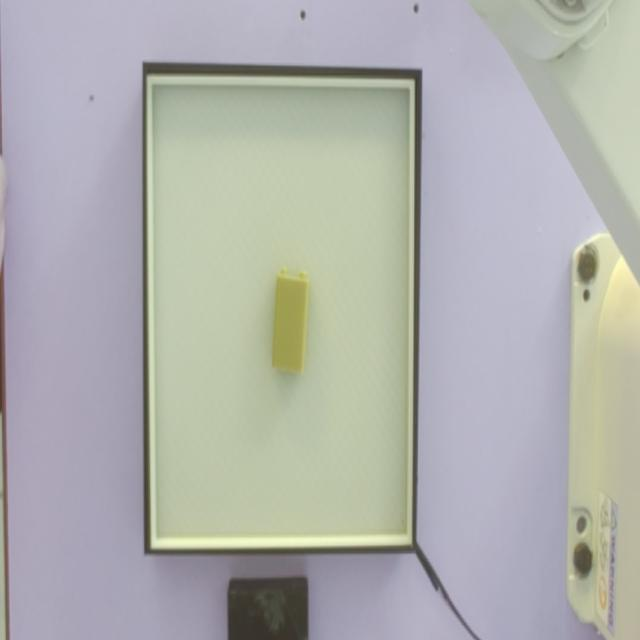bateria: (271, 267, 309, 375)
mesa: (142, 62, 422, 554)
